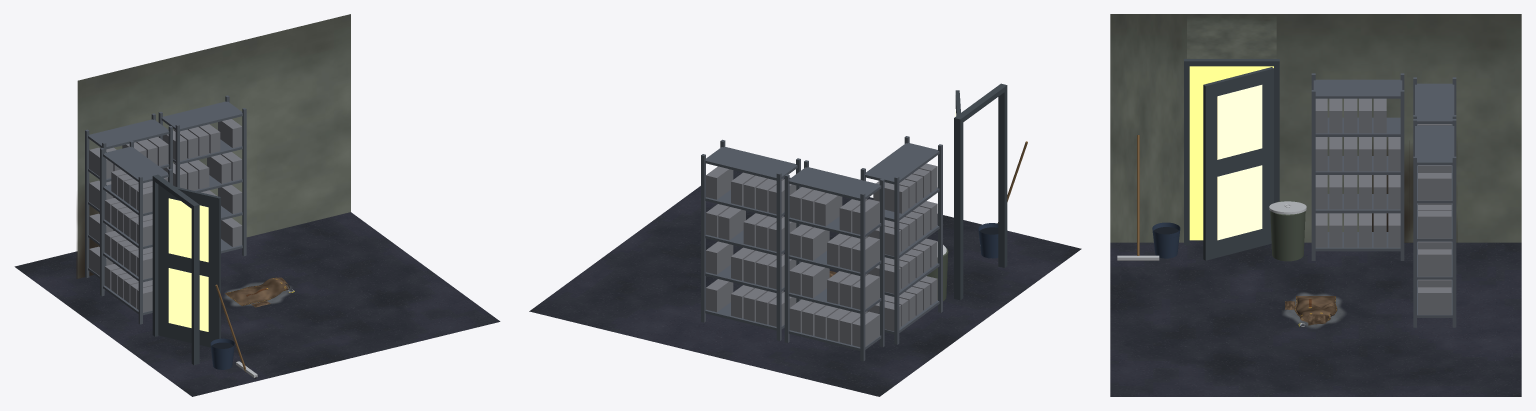
File: malote-perto.glb
The picture shows the model from 3 angles, left to right: view 1: azimuth 30°, elevation 25°; view 2: azimuth 150°, elevation 25°; view 3: azimuth 270°, elevation 25°; orthographic projection. The views are drawn at different scales.
Visible parts, largest first — view 1: chao-umido, parede_esquerda, estante_3_caixas, porta_folha, estante_2_caixas, estante_3_estrutura, estante_2_estrutura, estante_1_estrutura, batente (×2), estante_1_caixas, porta_vidro_inf, porta_vidro_sup (+4 smaller); view 2: chao-umido, estante_1_caixas, estante_2_caixas, estante_3_caixas, estante_1_estrutura, estante_2_estrutura, estante_3_estrutura, batente (×2), batente_sup, balde_corpo; view 3: chao-umido, parede_fundo_b, parede_fundo_a, estante_3_caixas, porta_folha, estante_3_estrutura, estante_2_caixas, estante_2_estrutura, parede_fundo_c, luz_corredor, porta_vidro_inf, porta_vidro_sup (+10 smaller).
Boxes of the visible parts, bbox=[...] form: chao-umido: bbox=[14, 212, 500, 396]; parede_esquerda: bbox=[77, 14, 350, 278]; estante_3_caixas: bbox=[104, 169, 152, 312]; porta_folha: bbox=[158, 184, 220, 347]; estante_2_caixas: bbox=[162, 119, 242, 246]; estante_3_estrutura: bbox=[100, 140, 172, 324]; estante_2_estrutura: bbox=[158, 95, 246, 256]; estante_1_estrutura: bbox=[85, 113, 172, 278]; batente (×2): bbox=[152, 179, 199, 365]; estante_1_caixas: bbox=[89, 137, 168, 275]; porta_vidro_inf: bbox=[168, 268, 208, 331]; porta_vidro_sup: bbox=[168, 198, 208, 262]; chao-umido: bbox=[529, 170, 1081, 396]; estante_1_caixas: bbox=[789, 187, 879, 346]; estante_2_caixas: bbox=[706, 166, 796, 326]; estante_3_caixas: bbox=[867, 163, 937, 331]; estante_1_estrutura: bbox=[784, 160, 884, 361]; estante_2_estrutura: bbox=[701, 139, 800, 340]; estante_3_estrutura: bbox=[860, 136, 942, 344]; batente (×2): bbox=[954, 90, 1007, 300]; batente_sup: bbox=[954, 83, 1007, 124]; balde_corpo: bbox=[978, 223, 998, 258]; chao-umido: bbox=[1110, 240, 1521, 396]; parede_fundo_b: bbox=[1276, 14, 1521, 242]; parede_fundo_a: bbox=[1110, 14, 1186, 242]; estante_3_caixas: bbox=[1315, 98, 1400, 247]; porta_folha: bbox=[1203, 67, 1273, 260]; estante_3_estrutura: bbox=[1311, 73, 1404, 260]; estante_2_caixas: bbox=[1418, 165, 1451, 314]; estante_2_estrutura: bbox=[1413, 119, 1456, 327]; parede_fundo_c: bbox=[1187, 14, 1276, 58]; luz_corredor: bbox=[1189, 66, 1273, 240]; porta_vidro_inf: bbox=[1217, 165, 1262, 240]; porta_vidro_sup: bbox=[1217, 85, 1262, 159].
Size of what is drawn, in the model's own units: 4.4 by 2.7 by 4.4.
Materials: 25 (8 with a texture image).
